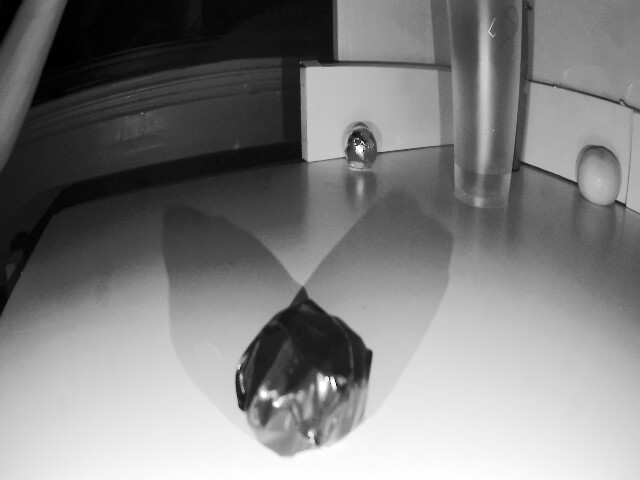black: (235, 302, 374, 458)
silver: (341, 123, 376, 174)
